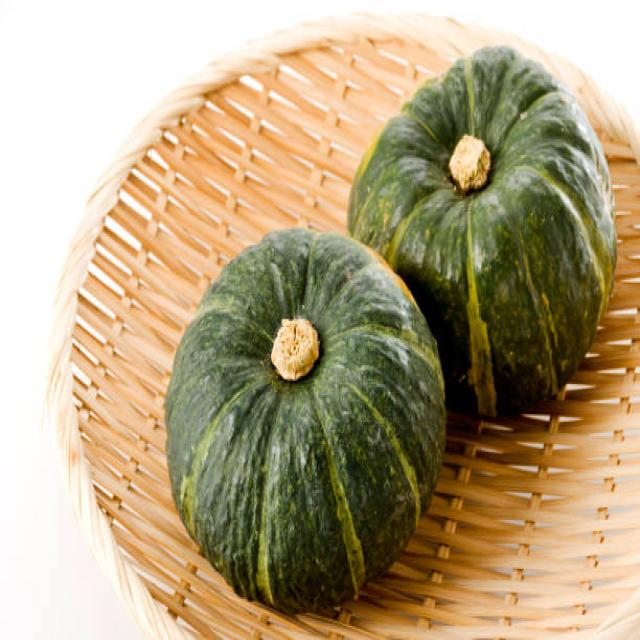pumpkin: (166, 226, 417, 593), (360, 43, 610, 281)
